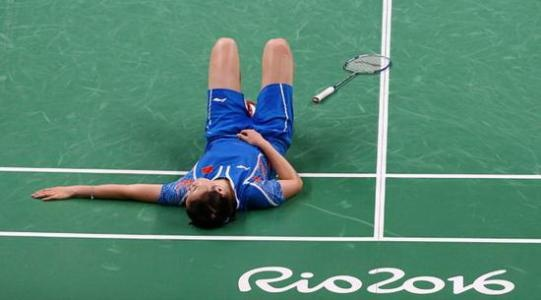falling: (33, 26, 323, 232)
